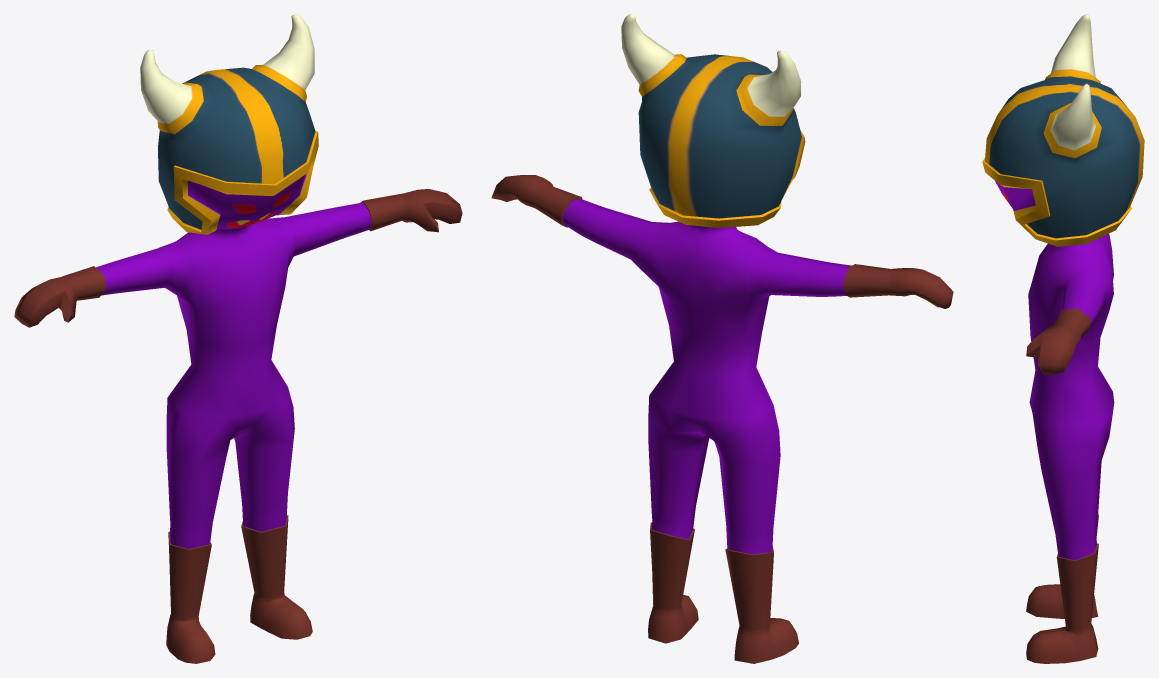
File: boss3.FBX
The picture shows the model from 3 angles, left to right: view 1: azimuth 30°, elevation 25°; view 2: azimuth 150°, elevation 25°; view 3: azimuth 270°, elevation 25°; orthographic projection. The views are drawn at different scales.
Parts seen in each view (by area): view 1: Object; view 2: Object; view 3: Object.
Part boxes in pixels (x1,y1,x2,y2): Object: (14, 14, 462, 663); Object: (491, 14, 953, 663); Object: (982, 14, 1144, 663).
Bounding box in the file's own units: 1.05 × 1.36 × 0.343.
Materials: 1 (1 with a texture image).
